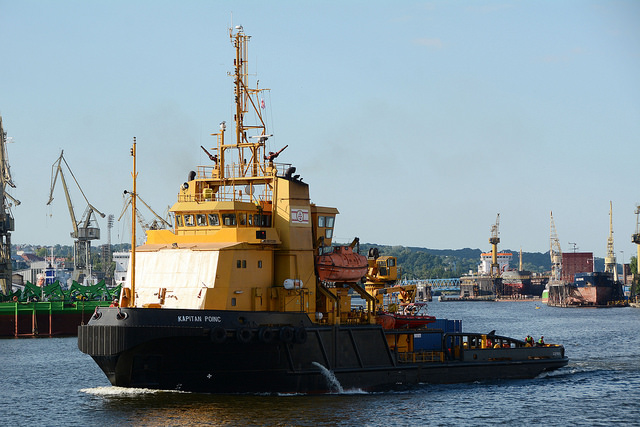tug_boat: (81, 27, 564, 384)
